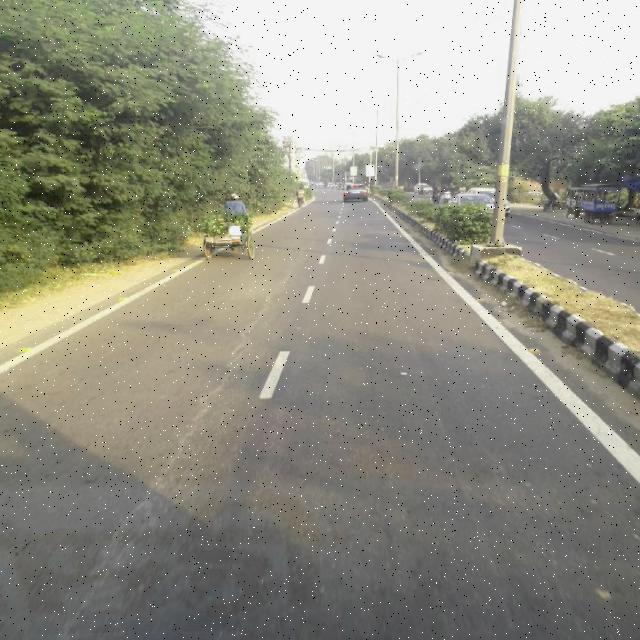D00: (83, 259, 300, 613)
